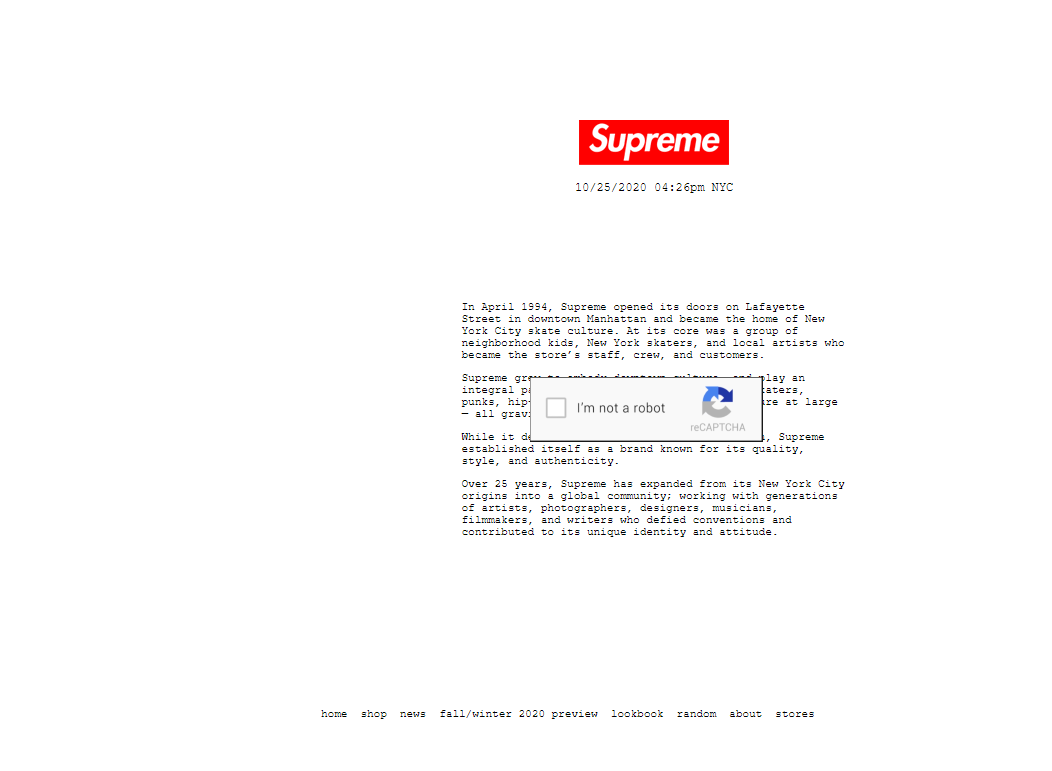captcha: (524, 371, 774, 451)
